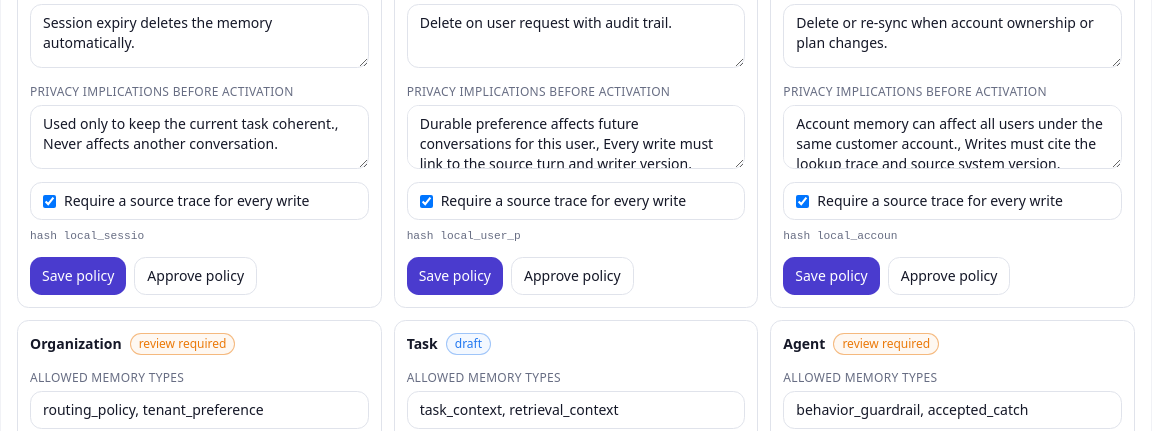
MemoryStudio › approves a memory policy and keeps the hash visible for preflight
(page scrolled)
Click the button with test id "memory-policy-approve-user".
click(572, 276)  # box [511,257,634,295]
(page scrolled)
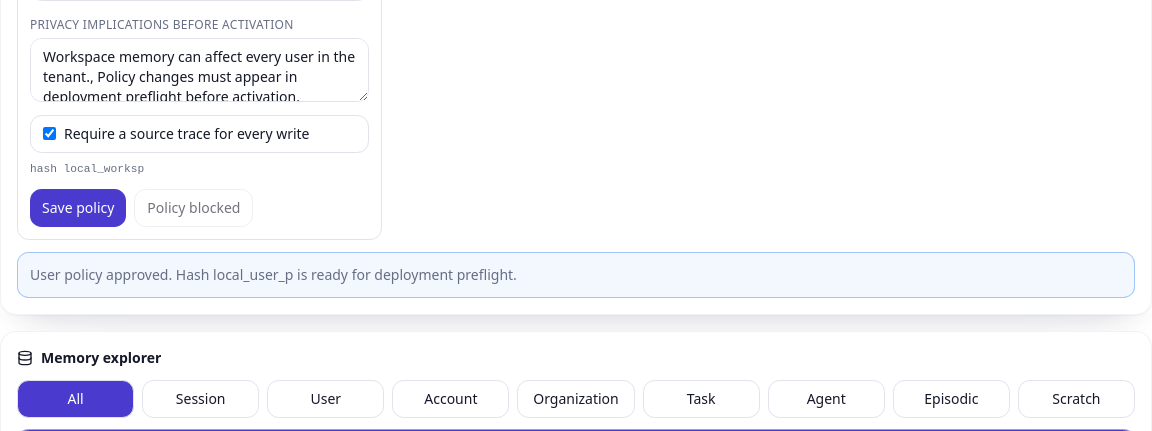
Check: the text with test id "memory-policy-notice" shows "ready for deployment preflight", box [30,265,517,284]
